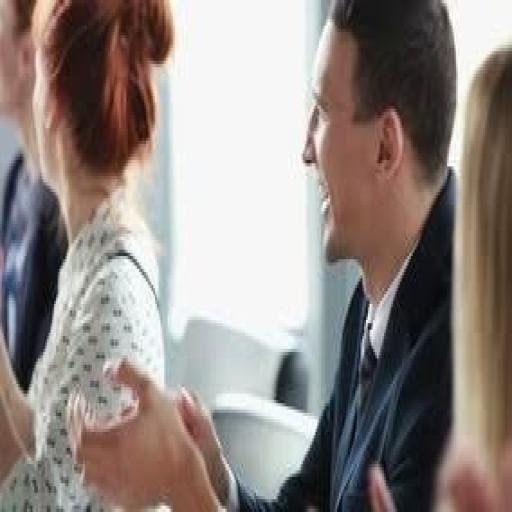clapping: (65, 0, 460, 509), (0, 0, 175, 509)
